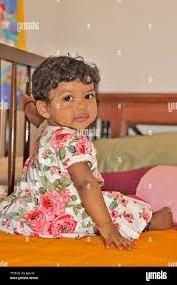Human: (8, 49, 173, 233)
